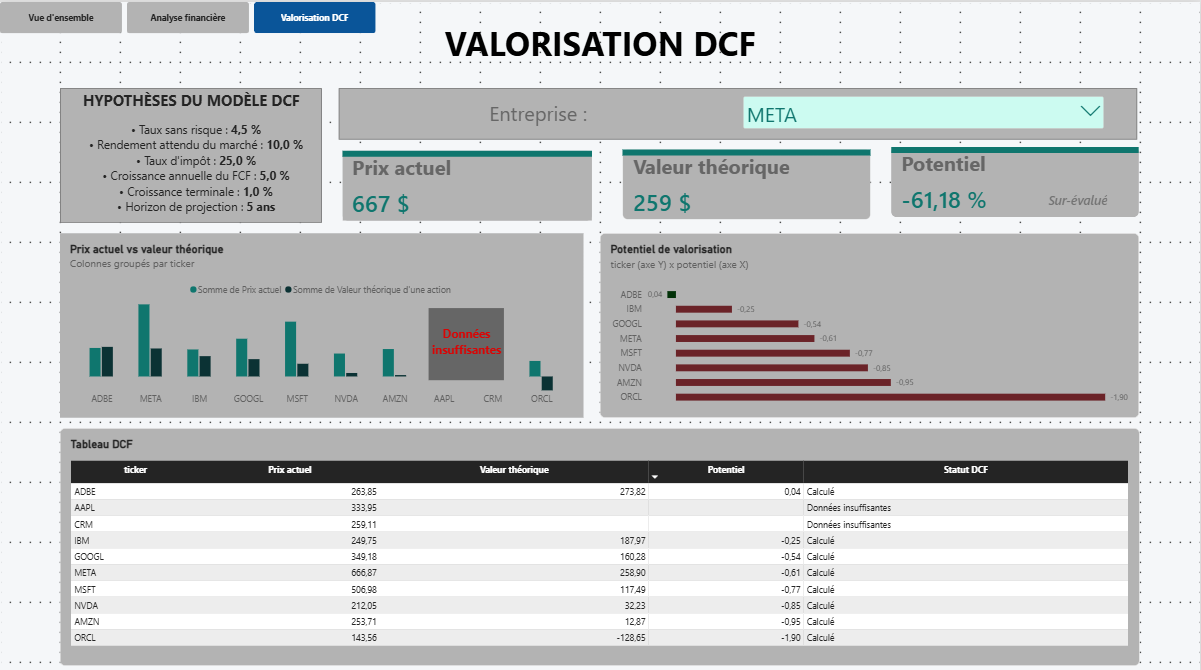

Layout of this report page (visuals, bound fields, positions):
{"tool":"powerbi","page":{"name":"Valorisation DCF","canvas":[1920,1080],"ordinal":2},"visuals":[{"type":"cardVisual","title":"Prix actuel","fields":{"Data":["Sum(public valorisation_societes.Potentiel)"]},"box":[1425,232.5,396.4,112],"z":0,"group":"g1"},{"type":"group","id":"g1","title":"Groupe 3","box":[1425,232.5,396.8,112],"z":0,"group":"g5"},{"type":"cardVisual","title":"Prix actuel","fields":{"Data":["Sum(public valorisation_societes.Valeur théorique d'une action)"]},"box":[995,235,397.4,112],"z":0,"group":"g4"},{"type":"cardVisual","title":"Prix actuel","fields":{"Data":["Sum(public valorisation_societes.Prix actuel)"]},"box":[547.5,237.5,399.7,112],"z":0,"group":"g3"},{"type":"clusteredColumnChart","title":"Prix actuel vs valeur théorique","fields":{"Category":["public valorisation_societes.ticker"],"Y":["Sum(public valorisation_societes.Prix actuel)","Sum(public valorisation_societes.Valeur théorique d'une action)"]},"box":[95,370,837.5,295],"z":0},{"type":"shape","box":[1425.7,232.5,395.9,9.6],"z":1000,"group":"g1"},{"type":"shape","box":[995.7,235,396.9,9.6],"z":1000,"group":"g4"},{"type":"shape","box":[548.2,237.5,399.2,9.6],"z":1000,"group":"g3"},{"type":"tableEx","title":"Tableau DCF","fields":{"Values":["public valorisation_societes.ticker","Sum(public valorisation_societes.Prix actuel)","Sum(public valorisation_societes.Valeur théorique d'une action)","Sum(public valorisation_societes.Potentiel)","public valorisation_societes.Statut DCF"]},"box":[95,682.5,1727.5,380],"z":1000},{"type":"shape","box":[542.5,137.5,1277.5,82],"z":2000,"group":"g6"},{"type":"cardVisual","title":"Prix actuel","fields":{"Data":["Min(public valorisation_societes.texte_potentiel)"]},"box":[1624.7,288.5,197.1,56],"z":2000,"group":"g5"},{"type":"clusteredBarChart","title":"Potentiel de valorisation","fields":{"Category":["public valorisation_societes.ticker"],"Y":["Sum(public valorisation_societes.Potentiel)"]},"box":[960,370,862.5,295],"z":2000},{"type":"shape","box":[685,490,120,115],"z":2000,"group":"g7"},{"type":"group","id":"g2","title":"Groupe 1","box":[95,137.5,420,215],"z":3000},{"type":"slicer","fields":{"Values":["public valorisation_societes.ticker"]},"box":[1185.1,145,587.5,65.6],"z":4000,"group":"g6"},{"type":"group","id":"g3","title":"Groupe 3","box":[547.5,237.5,397.5,112.5],"z":4000},{"type":"group","id":"g4","title":"Groupe 3","box":[995,235,397.5,112.5],"z":5000},{"type":"textbox","box":[603.7,155,514.1,43.7],"z":6000,"group":"g6"},{"type":"group","id":"g5","title":"Groupe 2","box":[1425,232.5,397.5,112.5],"z":6000},{"type":"group","id":"g6","title":"Groupe 1","box":[542.5,137.5,1277.5,82.5],"z":7000},{"type":"textbox","box":[497.5,27.5,925,82.5],"z":8000},{"type":"group","id":"g7","title":"Groupe 1","box":[685,490,120,115],"z":9000},{"type":"textbox","box":[690,517.5,112.5,95],"z":9001},{"type":"pageNavigator","box":[0,0,602.5,50],"z":9002},{"type":"shape","box":[95,137.5,418.9,215.4],"z":13000,"group":"g2"},{"type":"textbox","box":[95,138.7,420,212.5],"z":14000,"group":"g2"}]}

Visuals, with their boxes in screenshot pixels (x1, y1, x2, y2), scaled from the page's 1920x1080 canvas onto the 1201x670 screenshot:
"Prix actuel" cardVisual: bbox(891, 144, 1139, 214)
"Groupe 3" group: bbox(891, 144, 1140, 214)
"Prix actuel" cardVisual: bbox(622, 146, 871, 215)
"Prix actuel" cardVisual: bbox(342, 147, 592, 217)
"Prix actuel vs valeur théorique" clusteredColumnChart: bbox(59, 230, 583, 413)
shape: bbox(892, 144, 1139, 150)
shape: bbox(623, 146, 871, 152)
shape: bbox(343, 147, 593, 153)
"Tableau DCF" tableEx: bbox(59, 423, 1140, 659)
shape: bbox(339, 85, 1138, 136)
"Prix actuel" cardVisual: bbox(1016, 179, 1140, 214)
"Potentiel de valorisation" clusteredBarChart: bbox(600, 230, 1140, 413)
shape: bbox(428, 304, 504, 375)
"Groupe 1" group: bbox(59, 85, 322, 219)
slicer - public valorisation_societes.ticker: bbox(741, 90, 1109, 131)
"Groupe 3" group: bbox(342, 147, 591, 217)
"Groupe 3" group: bbox(622, 146, 871, 216)
textbox: bbox(378, 96, 699, 123)
"Groupe 2" group: bbox(891, 144, 1140, 214)
"Groupe 1" group: bbox(339, 85, 1138, 136)
textbox: bbox(311, 17, 890, 68)
"Groupe 1" group: bbox(428, 304, 504, 375)
textbox: bbox(432, 321, 502, 380)
pageNavigator: bbox(0, 0, 377, 31)
shape: bbox(59, 85, 321, 219)
textbox: bbox(59, 86, 322, 218)
